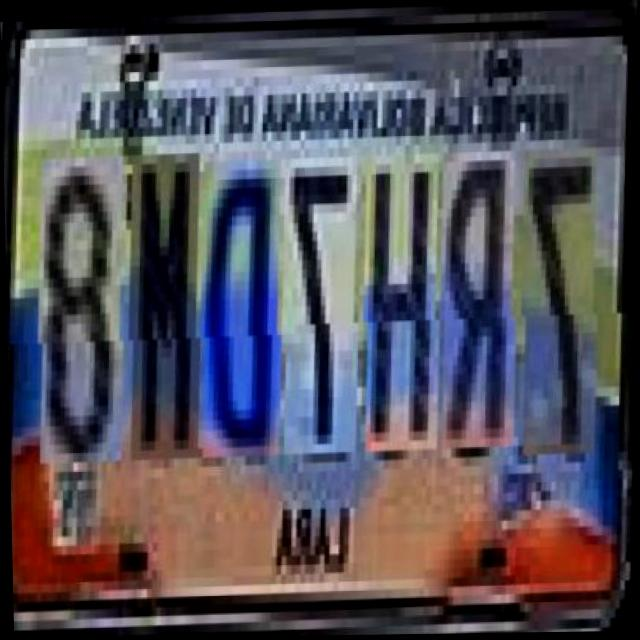7: (515, 149, 603, 458), (276, 156, 363, 455)
8: (32, 153, 130, 461)
d: (195, 158, 287, 457)
h: (357, 153, 444, 452)
m: (122, 150, 207, 459)
r: (434, 151, 521, 450)
